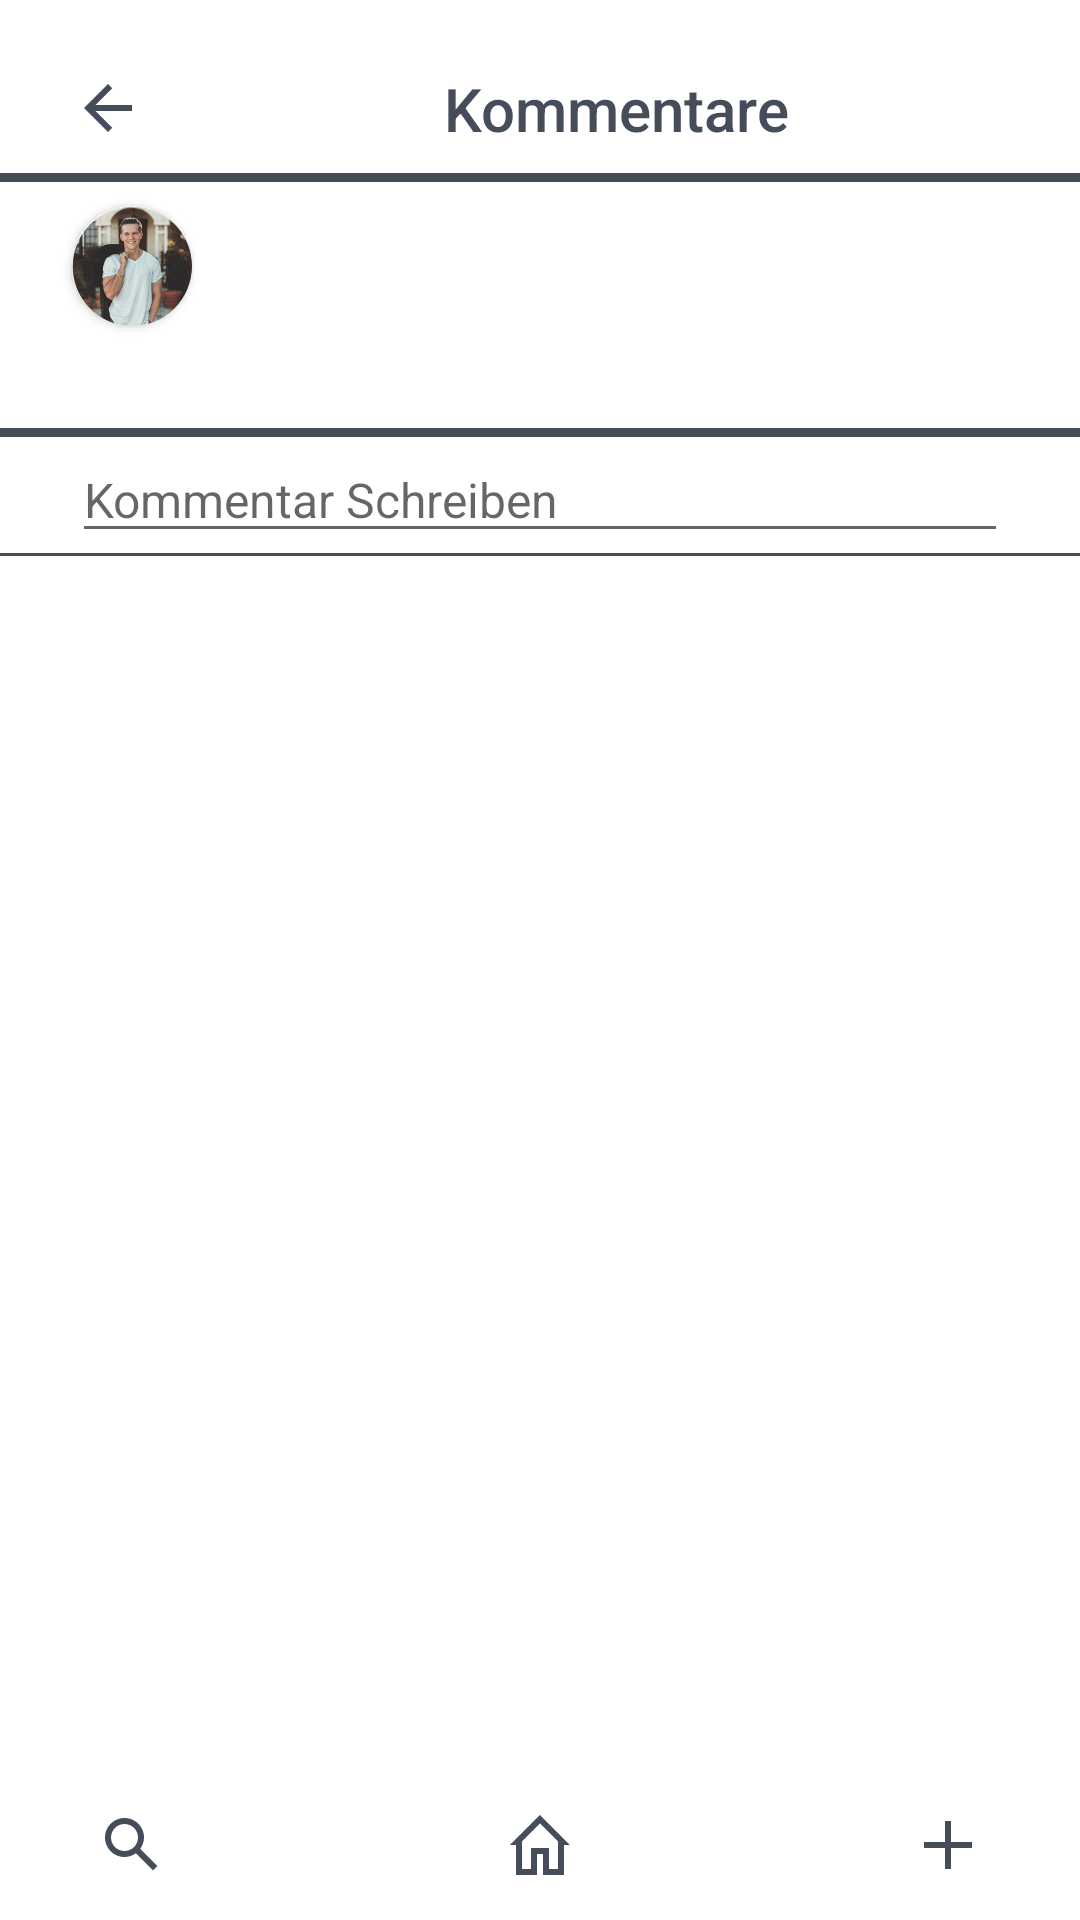

Point at icon controls on the screen. Image size 1080px×1920px, points as point (x, y).
account profil: point (132, 266)
add: point (948, 1845)
arrow back: point (108, 108)
home: point (540, 1845)
search: point (131, 1844)
